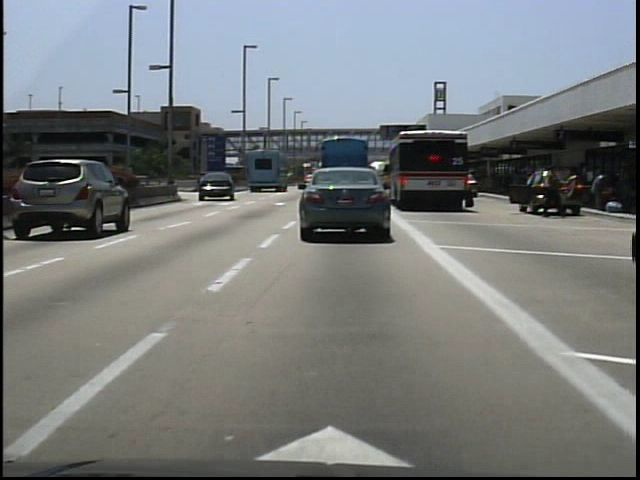person: (538, 162, 565, 220)
